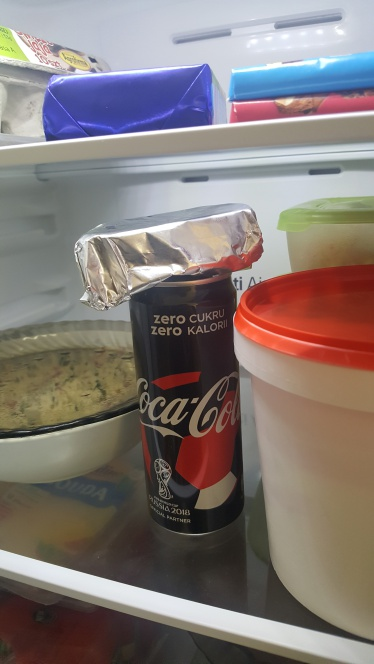colazero: (132, 256, 260, 539)
